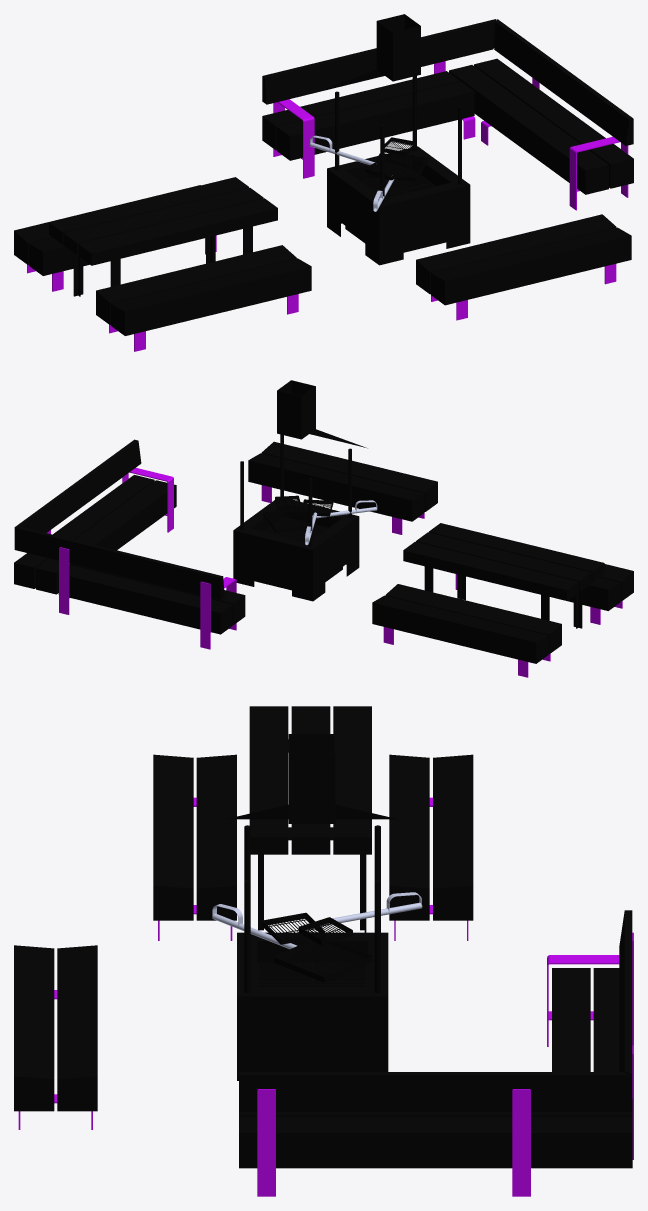
3 renders of one model, top to bottom at view 1: azimuth 30°, elevation 25°; view 2: azimuth 150°, elevation 25°; view 3: azimuth 270°, elevation 25°, orthographic. The views are drawn at different scales.
Visible parts, largest first — view 1: brep_36, brep_62, brep_80, brep_46, brep_44, brep_40, brep_59, brep_37, brep_43, brep_63, brep_81, brep_58 (+9 smaller); view 2: brep_36, brep_60, brep_81, brep_45, brep_40, brep_57, brep_44, brep_37, brep_61, brep_80, brep_43, brep_59 (+10 smaller); view 3: brep_43, brep_37, brep_36, brep_81, brep_80, brep_60, brep_62, brep_63, brep_61, brep_59, brep_57, brep_82 (+15 smaller).
Boxes of the visible parts, left/top/right/bottom form: brep_36: left=327, top=146, right=470, bottom=265; brep_62: left=111, top=258, right=311, bottom=335; brep_80: left=431, top=227, right=631, bottom=305; brep_46: left=276, top=81, right=474, bottom=160; brep_44: left=449, top=65, right=608, bottom=194; brep_40: left=262, top=19, right=496, bottom=104; brep_59: left=78, top=198, right=277, bottom=265; brep_37: left=494, top=19, right=633, bottom=145; brep_43: left=474, top=58, right=633, bottom=188; brep_63: left=96, top=245, right=296, bottom=324; brep_81: left=416, top=214, right=616, bottom=294; brep_58: left=63, top=187, right=263, bottom=254; brep_36: left=233, top=500, right=359, bottom=601; brep_60: left=372, top=595, right=548, bottom=663; brep_81: left=248, top=453, right=424, bottom=521; brep_45: left=58, top=565, right=232, bottom=634; brep_40: left=14, top=527, right=224, bottom=600; brep_57: left=403, top=541, right=578, bottom=600; brep_44: left=36, top=480, right=176, bottom=594; brep_37: left=14, top=439, right=141, bottom=532; brep_61: left=385, top=584, right=561, bottom=654; brep_80: left=261, top=441, right=437, bottom=511; brep_43: left=14, top=475, right=154, bottom=588; brep_59: left=428, top=523, right=604, bottom=582; brep_43: left=239, top=1116, right=632, bottom=1168; brep_37: left=239, top=1072, right=631, bottom=1111; brep_36: left=237, top=932, right=388, bottom=1080; brep_81: left=57, top=945, right=97, bottom=1111; brep_80: left=14, top=945, right=54, bottom=1111; brep_60: left=433, top=754, right=473, bottom=920; brep_62: left=153, top=754, right=193, bottom=920; brep_63: left=196, top=754, right=236, bottom=920; brep_61: left=389, top=754, right=429, bottom=920; brep_59: left=249, top=706, right=288, bottom=854; brep_57: left=333, top=706, right=371, bottom=854; brep_82: left=288, top=734, right=335, bottom=823.
Bounding box in the file's own units: 5.78 × 2.17 × 4.
